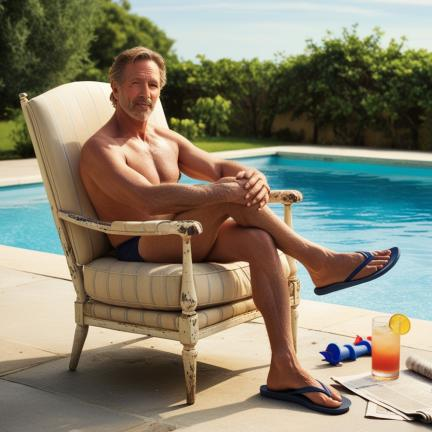guest on chair: (20, 47, 400, 415)
